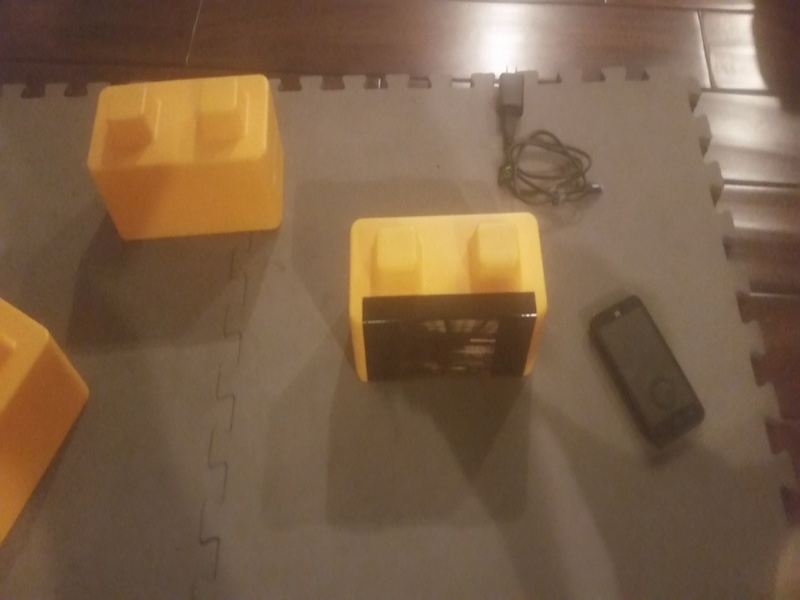Skystone: (337, 206, 555, 392)
Stone: (75, 73, 285, 243)
